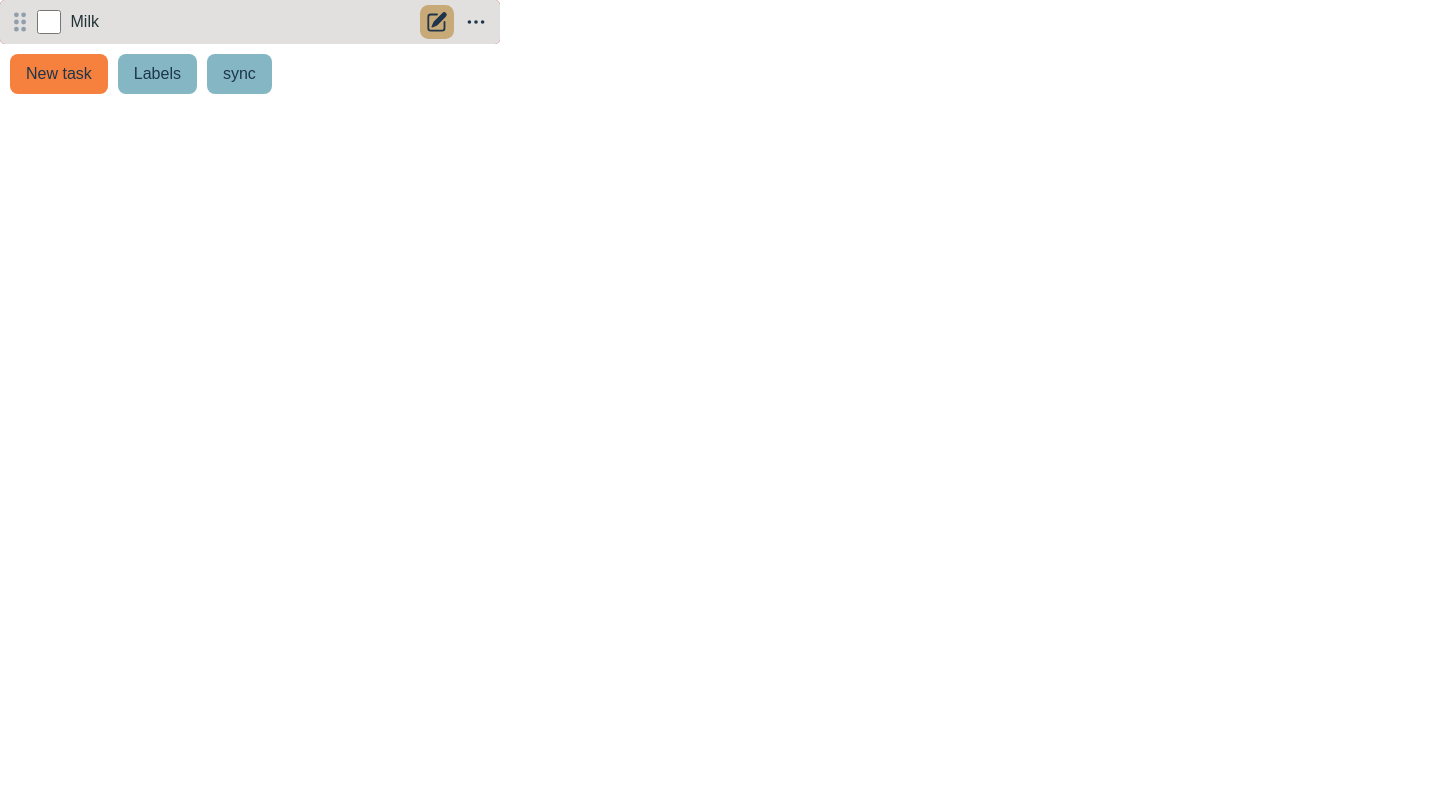
Test: opens the note dialog from the overlay without a round trip
What coordinates should you click on to do the following:
click the 2nd button
I would click on:
 (436, 22)
Its box is [420,5,454,39].
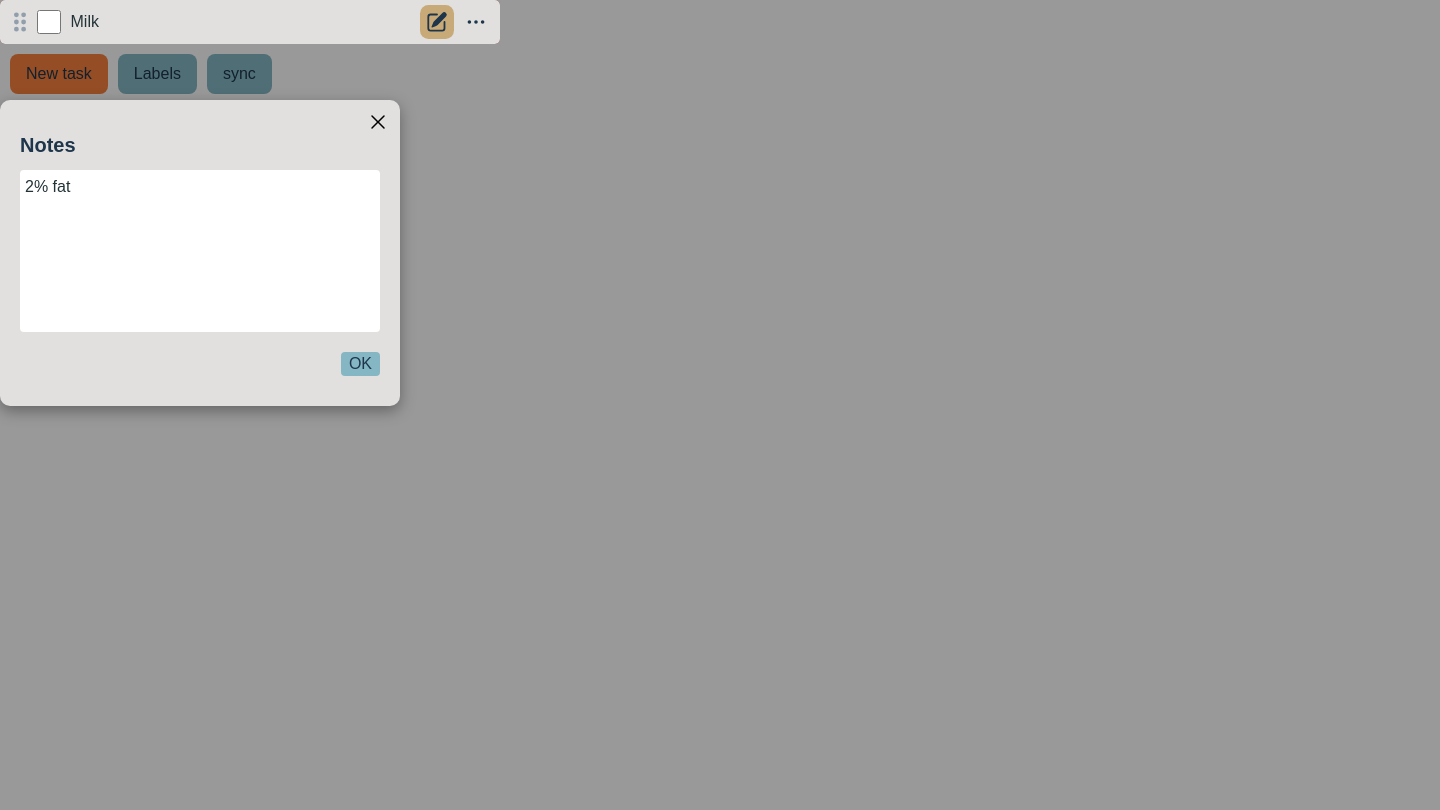
expect the heading "Notes" is shown: met, box [20,134,76,156]
expect the text box showing "2% fat" is shown: met, box [20,170,380,332]
